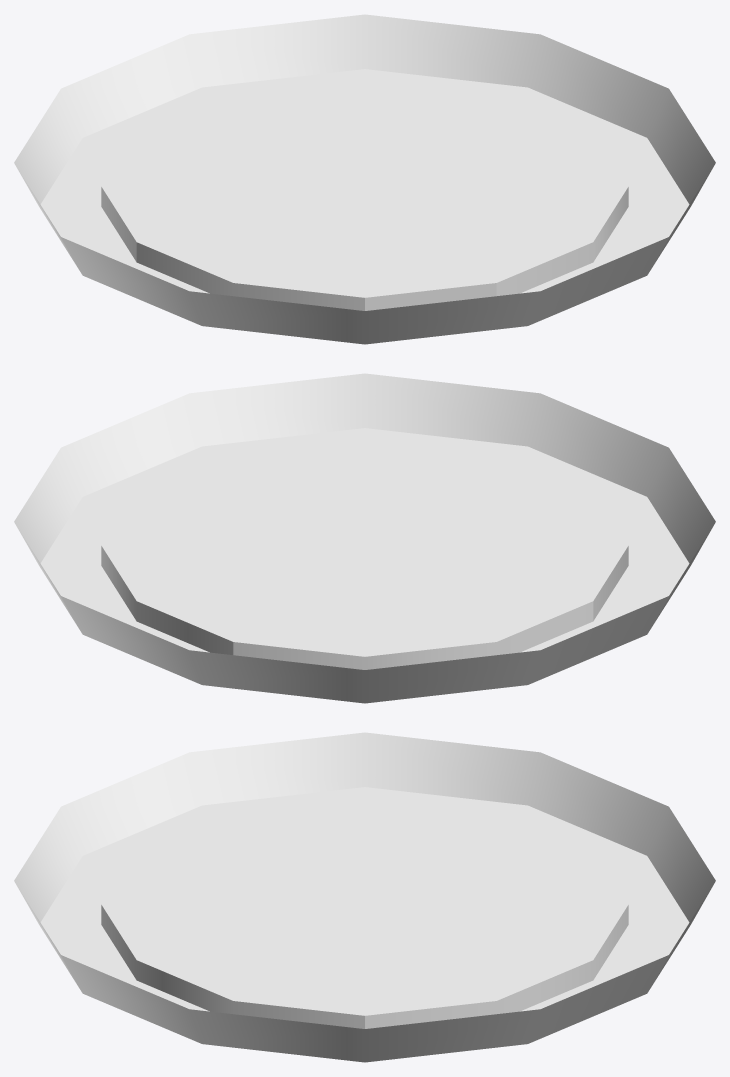
The model's file is Light.fbx.
3 views of the same model, one above another, from view 1: azimuth 30°, elevation 25°; view 2: azimuth 150°, elevation 25°; view 3: azimuth 270°, elevation 25° (orthographic).
Visible parts, largest first — view 1: Light; view 2: Light; view 3: Light.
Boxes of the visible parts, x1=… form: Light: x1=14, y1=14, x2=715, y2=344; Light: x1=14, y1=373, x2=715, y2=703; Light: x1=14, y1=732, x2=715, y2=1062.
Size of the model in its own units: 54.22 by 3.75 by 54.22.
